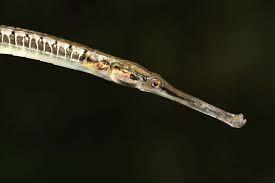Long-Snouted Pipefish: (2, 21, 247, 130)
